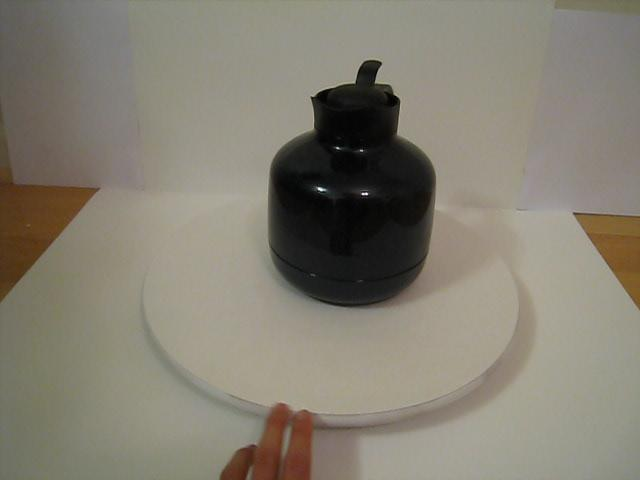pitcher: (267, 45, 443, 311)
